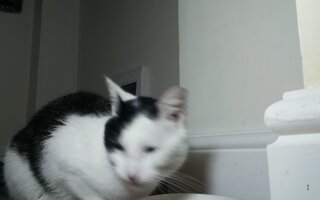bad: (6, 74, 196, 198)
